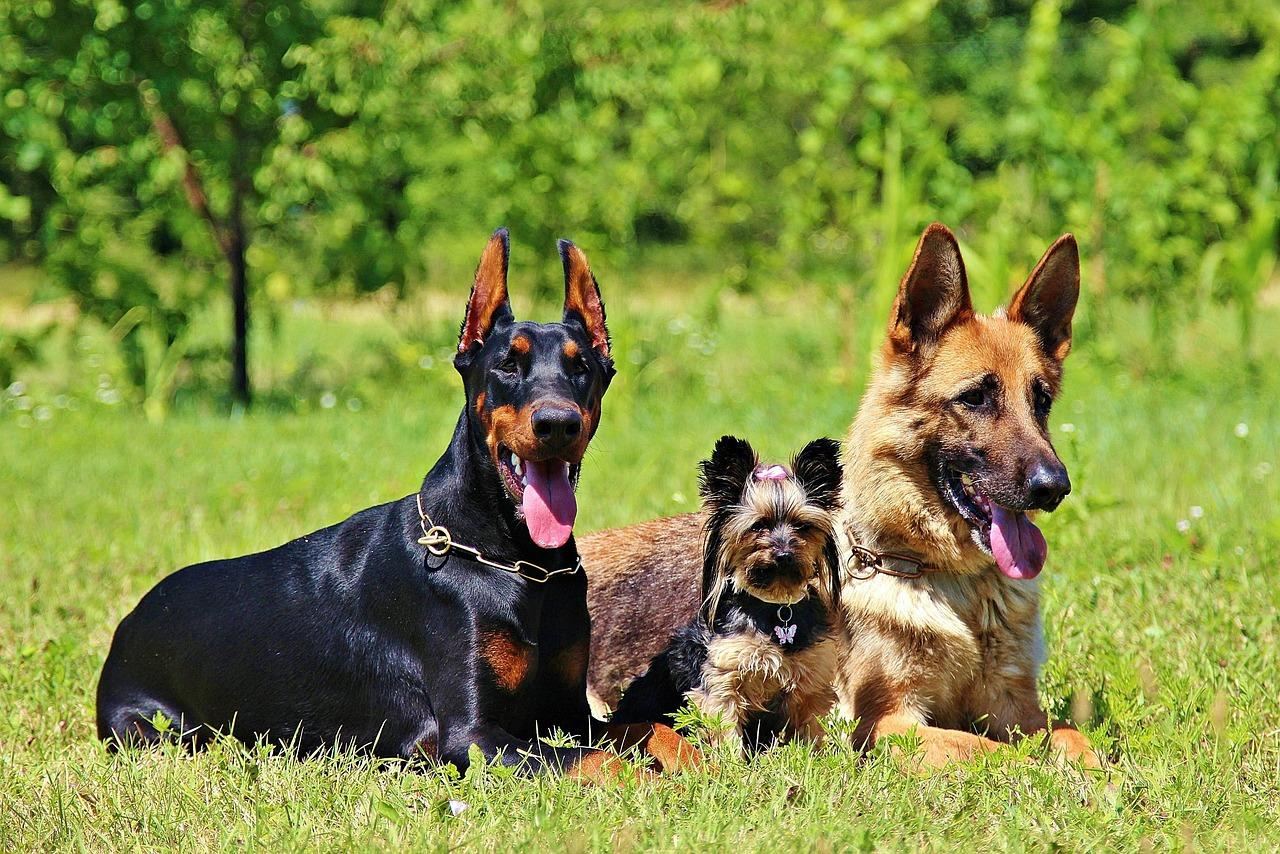german_shepherd: (865, 237, 1119, 577)
